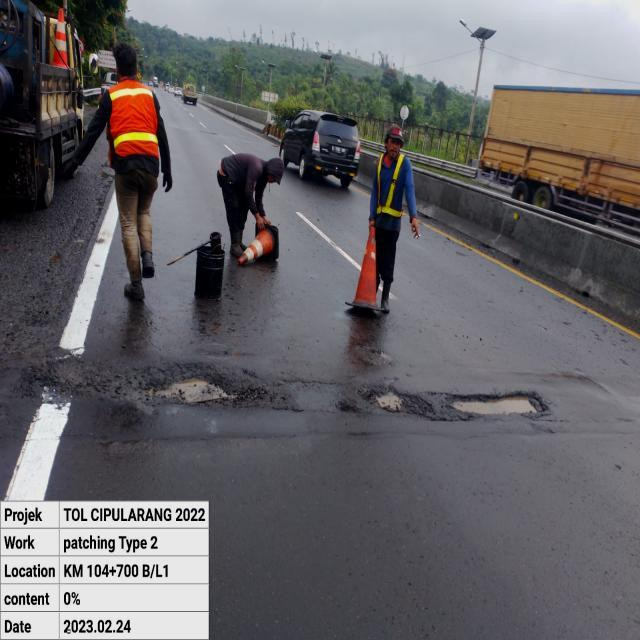Buraco: (131, 372, 271, 409), (357, 383, 444, 423), (441, 389, 552, 420), (350, 341, 396, 369)
